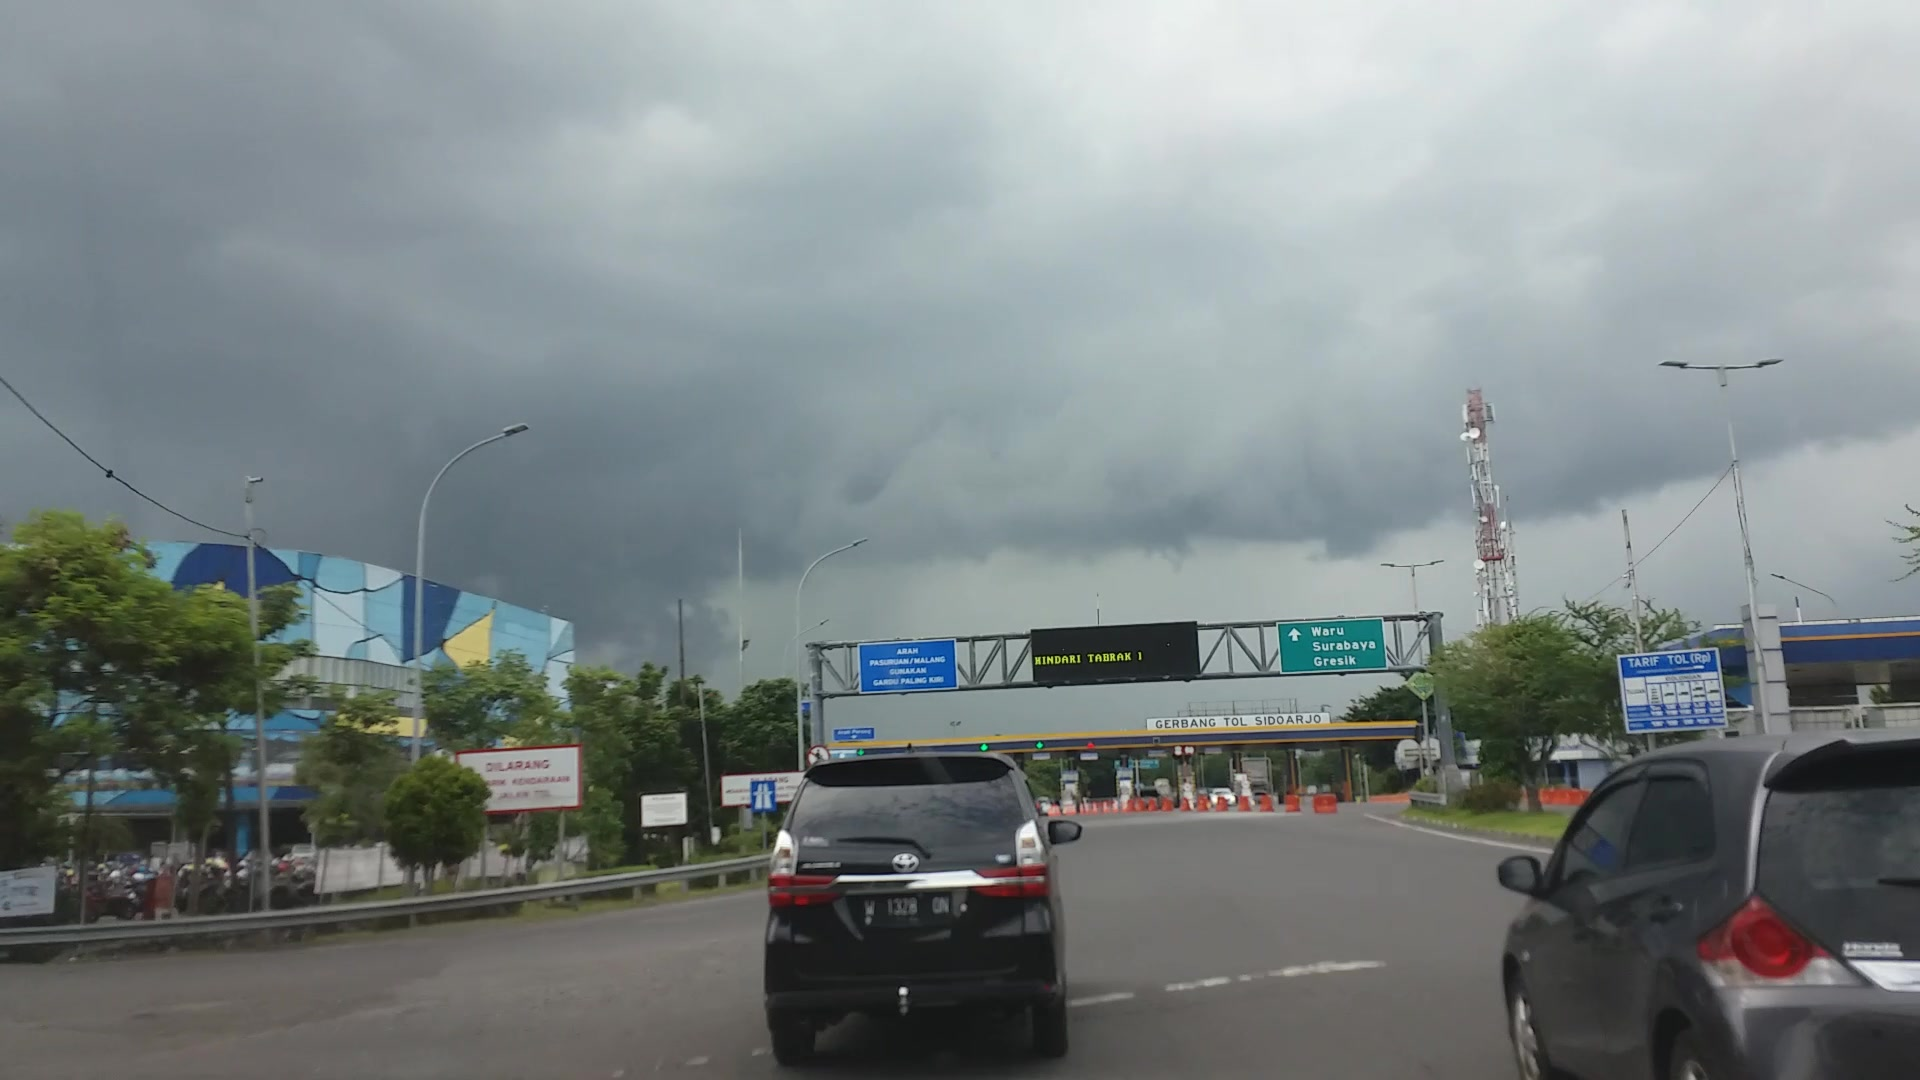plate_positive: (862, 894, 955, 927)
